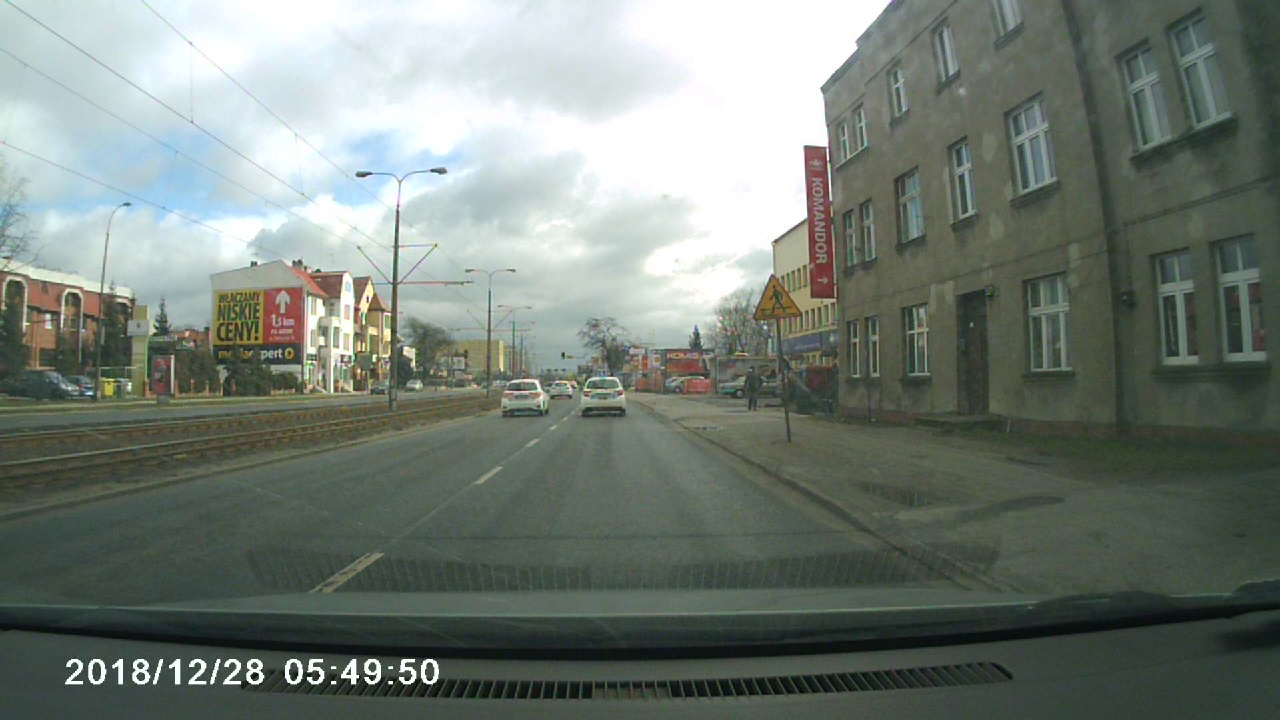A16: (748, 271, 806, 326)
